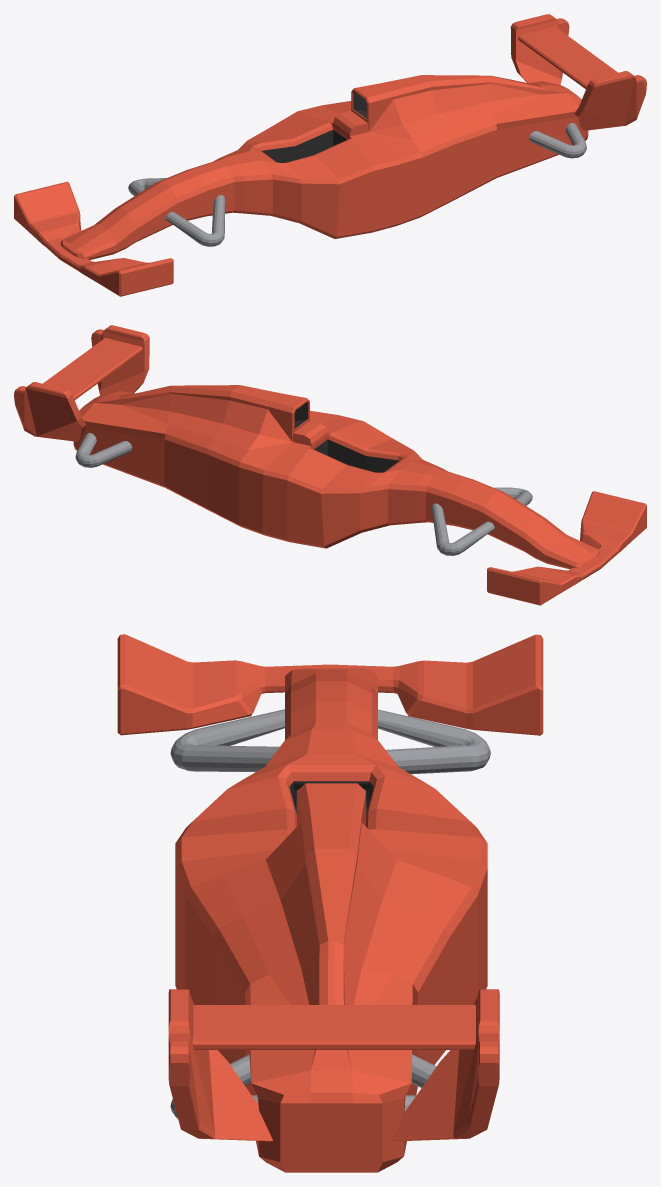
File: F1_Car.fbx
3 renders of one model, top to bottom at view 1: azimuth 30°, elevation 25°; view 2: azimuth 150°, elevation 25°; view 3: azimuth 270°, elevation 25°, orthographic. The views are drawn at different scales.
Visible parts, largest first — view 1: Car; view 2: Car; view 3: Car.
Boxes of the visible parts, x1,y1,x2,y2 form: Car: [14, 14, 646, 296]; Car: [14, 325, 646, 605]; Car: [117, 634, 543, 1172].
Bounding box in the file's own units: 465 × 86.28 × 157.
